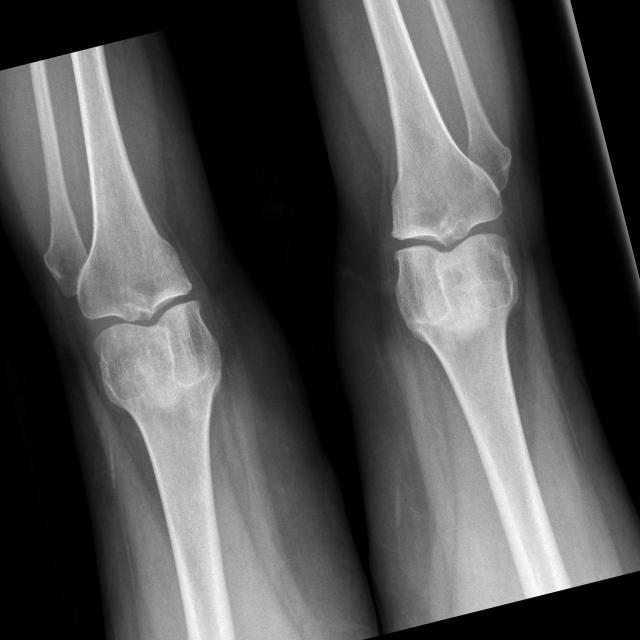Knee: (371, 170, 527, 326), (71, 245, 228, 396)
